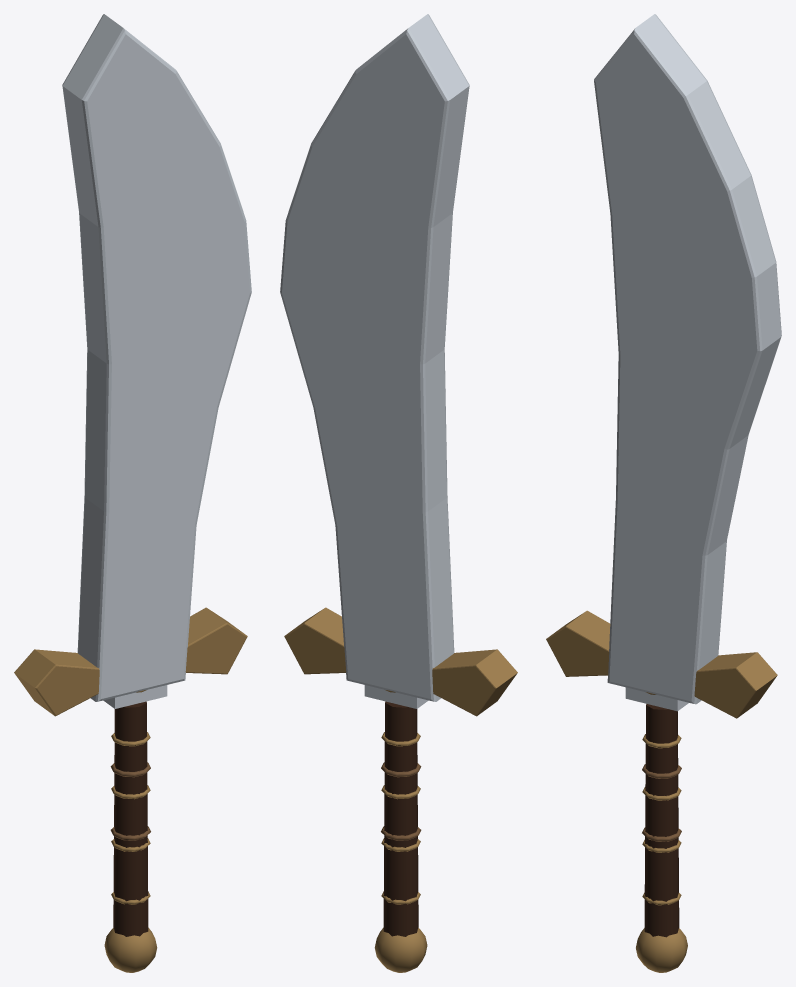
The model's file is greatsword_f5_5adec858.glb.
3 views of the same model, side by side, from view 1: azimuth 30°, elevation 25°; view 2: azimuth 150°, elevation 25°; view 3: azimuth 330°, elevation 25° (orthographic).
Parts seen in each view (by area): view 1: m2_ow80_, m3_ow80_, m1_ow80_; view 2: m2_ow80_, m3_ow80_, m1_ow80_; view 3: m2_ow80_, m3_ow80_, m1_ow80_.
Part boxes in pixels (x1,y1,x2,y2): m2_ow80_: (62,14,251,708); m3_ow80_: (14,607,247,972); m1_ow80_: (113,701,148,936); m2_ow80_: (280,14,469,708); m3_ow80_: (284,607,517,972); m1_ow80_: (383,701,418,936); m2_ow80_: (594,14,781,711); m3_ow80_: (546,610,777,972); m1_ow80_: (644,704,679,937).
Bounding box in the file's own units: 0.7874 × 3.3 × 0.1583.
